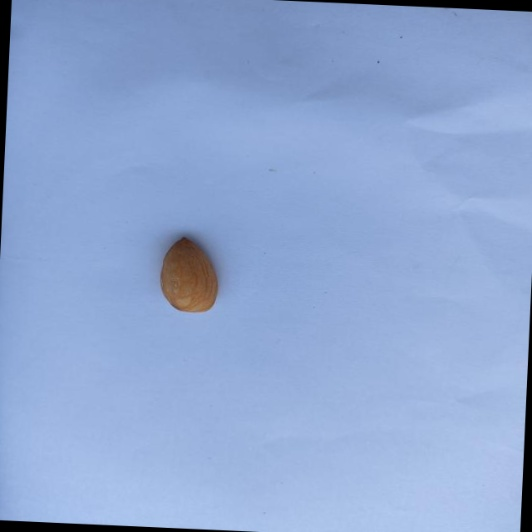grade2: (156, 234, 226, 316)
